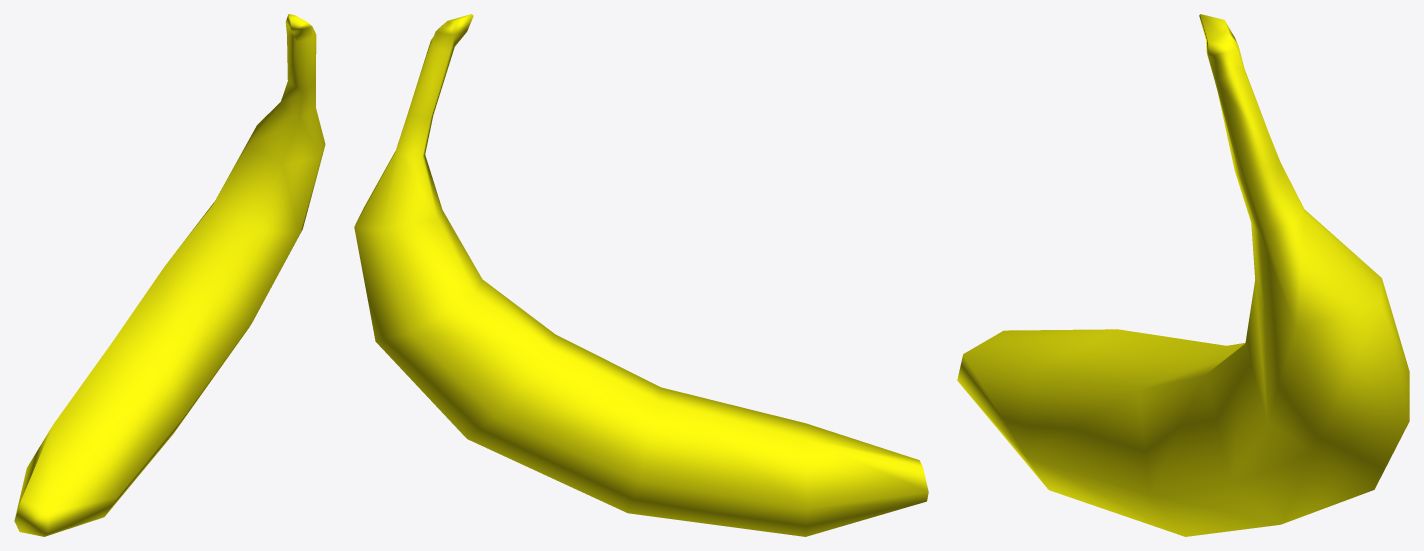
The model's file is item_glitched_banana.glb.
3 renders of one model, left to right at view 1: azimuth 30°, elevation 25°; view 2: azimuth 150°, elevation 25°; view 3: azimuth 270°, elevation 25°, orthographic. The views are drawn at different scales.
Parts seen in each view (by area): view 1: Banana; view 2: Banana; view 3: Banana.
Part boxes in pixels (x1,y1,x2,y2): Banana: (14, 14, 325, 536); Banana: (354, 14, 928, 536); Banana: (957, 14, 1409, 536).
Bounding box in the file's own units: 0.6091 × 0.5911 × 0.3668.
